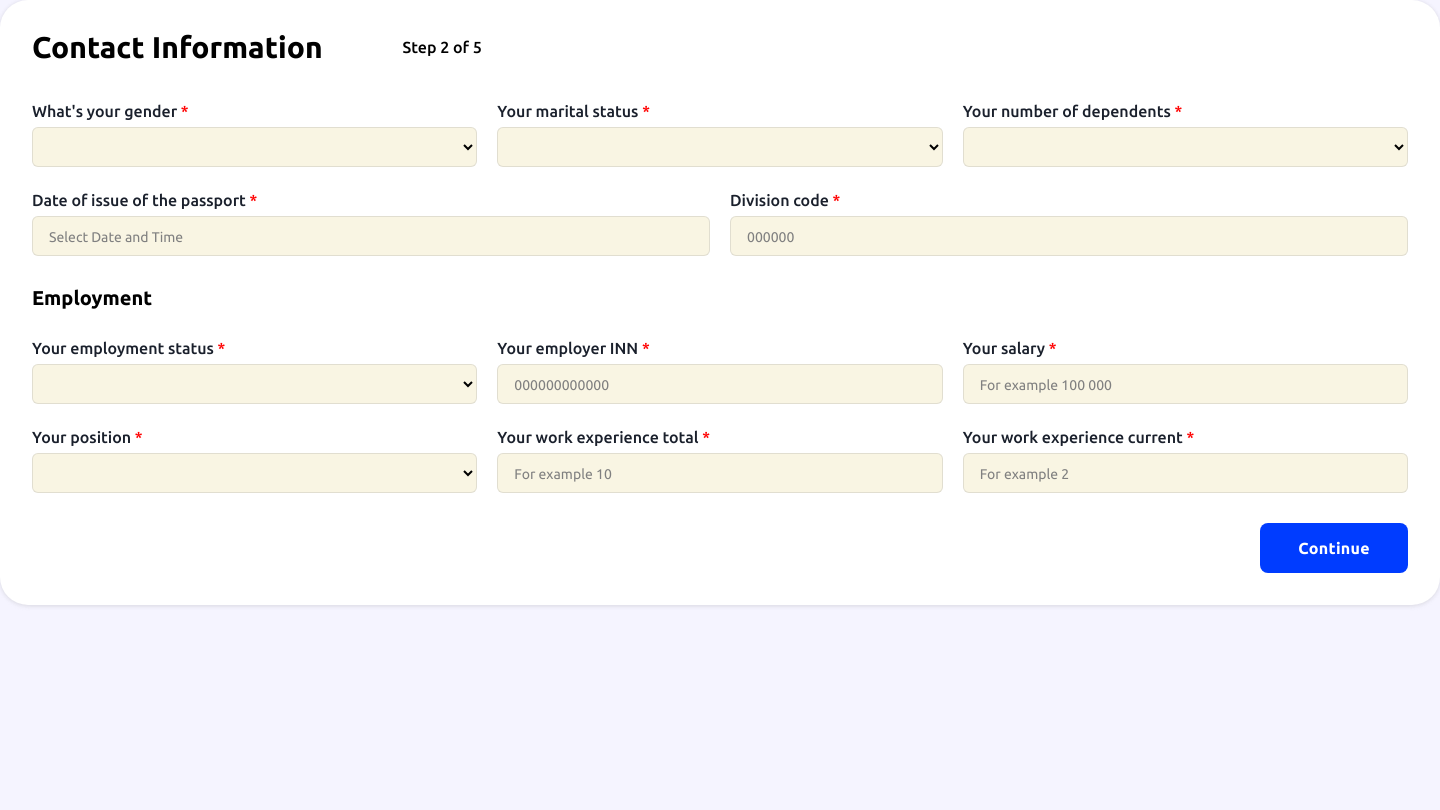
Scoring › Invalid data
Click the button: (1334, 548) x1=1260 y1=523 x2=1408 y2=573
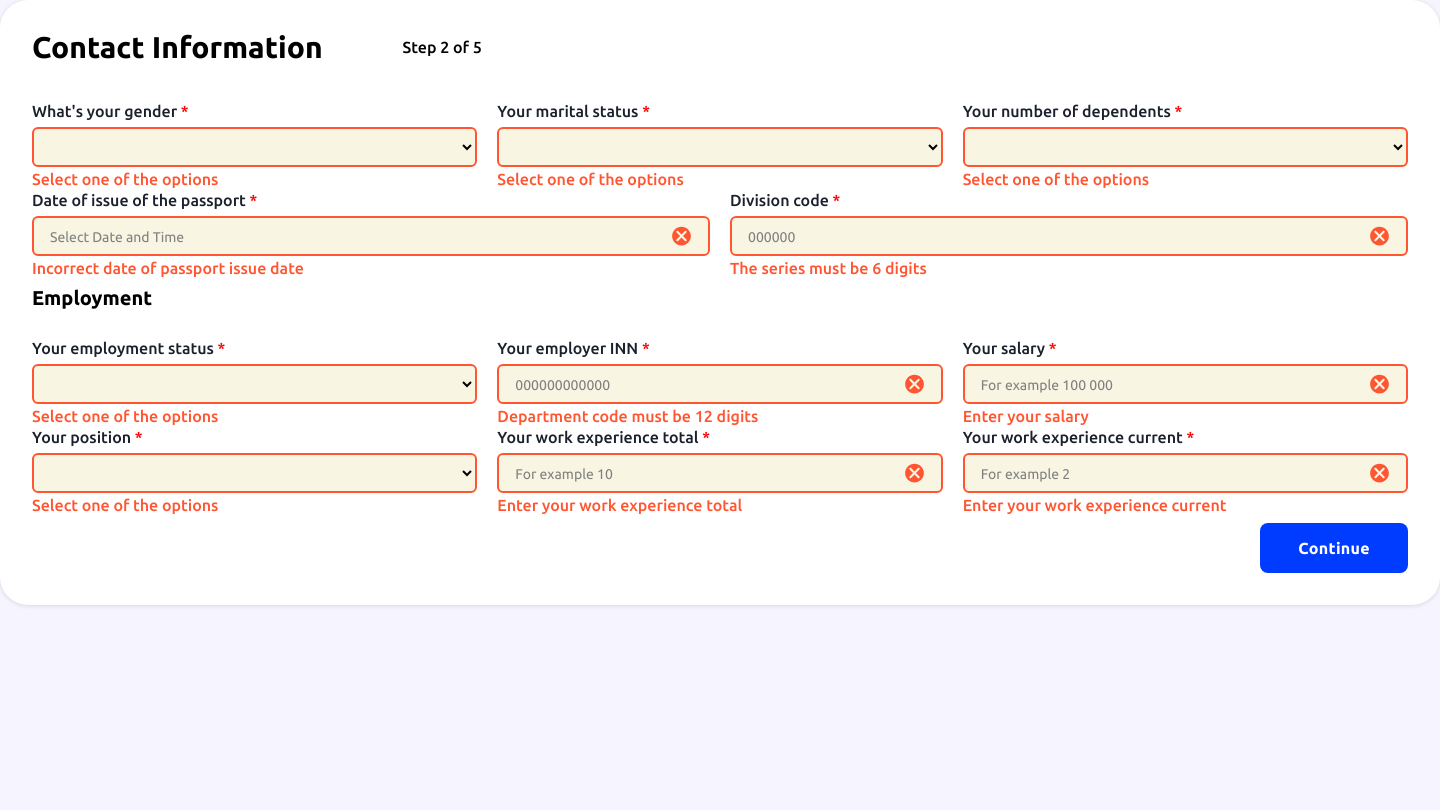
Check: the text "Select one of the options" below "What's your gender" is shown, box x1=32 y1=170 x2=218 y2=188
Check: the text "Select one of the options" below "Your marital status" is shown, box x1=497 y1=170 x2=684 y2=188
Check: the text "Select one of the options" below "Your number of dependents" is shown, box x1=963 y1=170 x2=1149 y2=188
